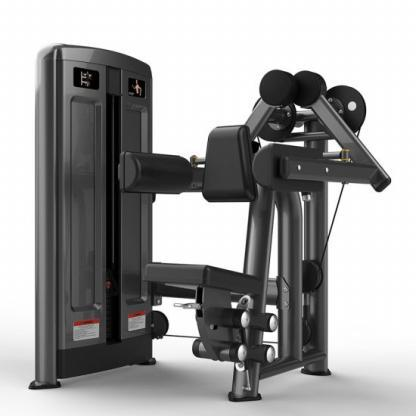lateral raises machine: (30, 41, 394, 402)
